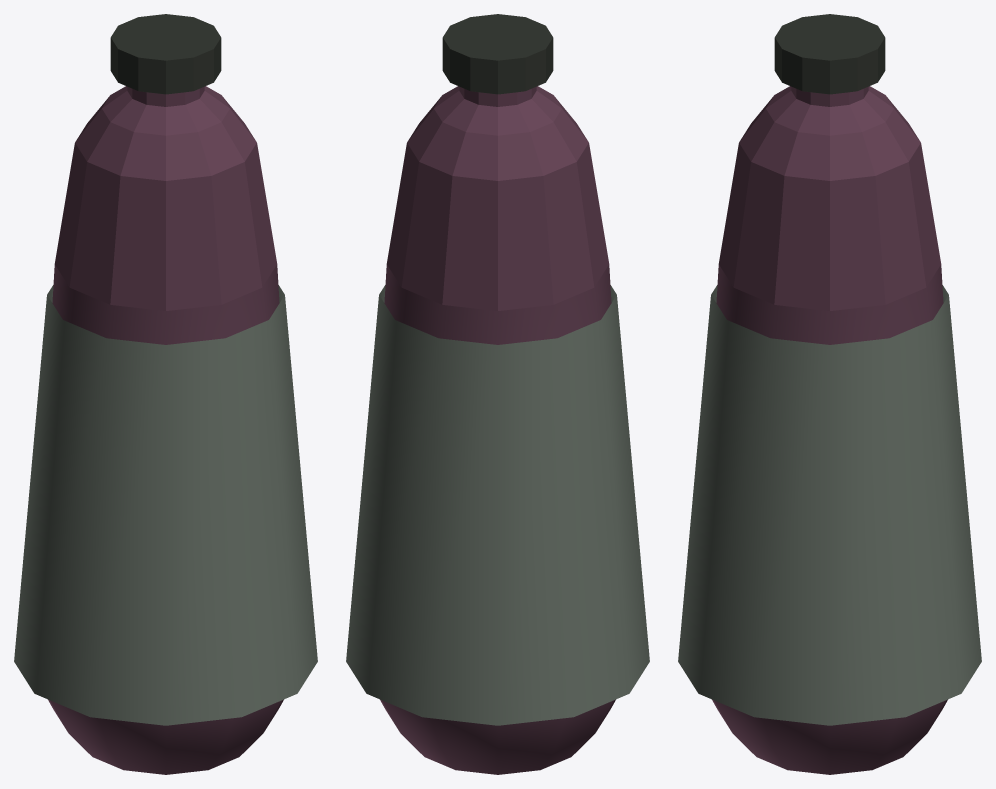
Rendered from SM_bottles_mat_01.fbx.
3 views of the same model, side by side, from view 1: azimuth 30°, elevation 25°; view 2: azimuth 150°, elevation 25°; view 3: azimuth 270°, elevation 25° (orthographic).
Parts seen in each view (by area): view 1: bottles_mat_01; view 2: bottles_mat_01; view 3: bottles_mat_01.
Part boxes in pixels (<box>): bottles_mat_01: <box>14,14,317,774</box>; bottles_mat_01: <box>346,14,649,774</box>; bottles_mat_01: <box>678,14,981,774</box>.
Size of the model in its own units: 24.92 by 63.49 by 24.92.
